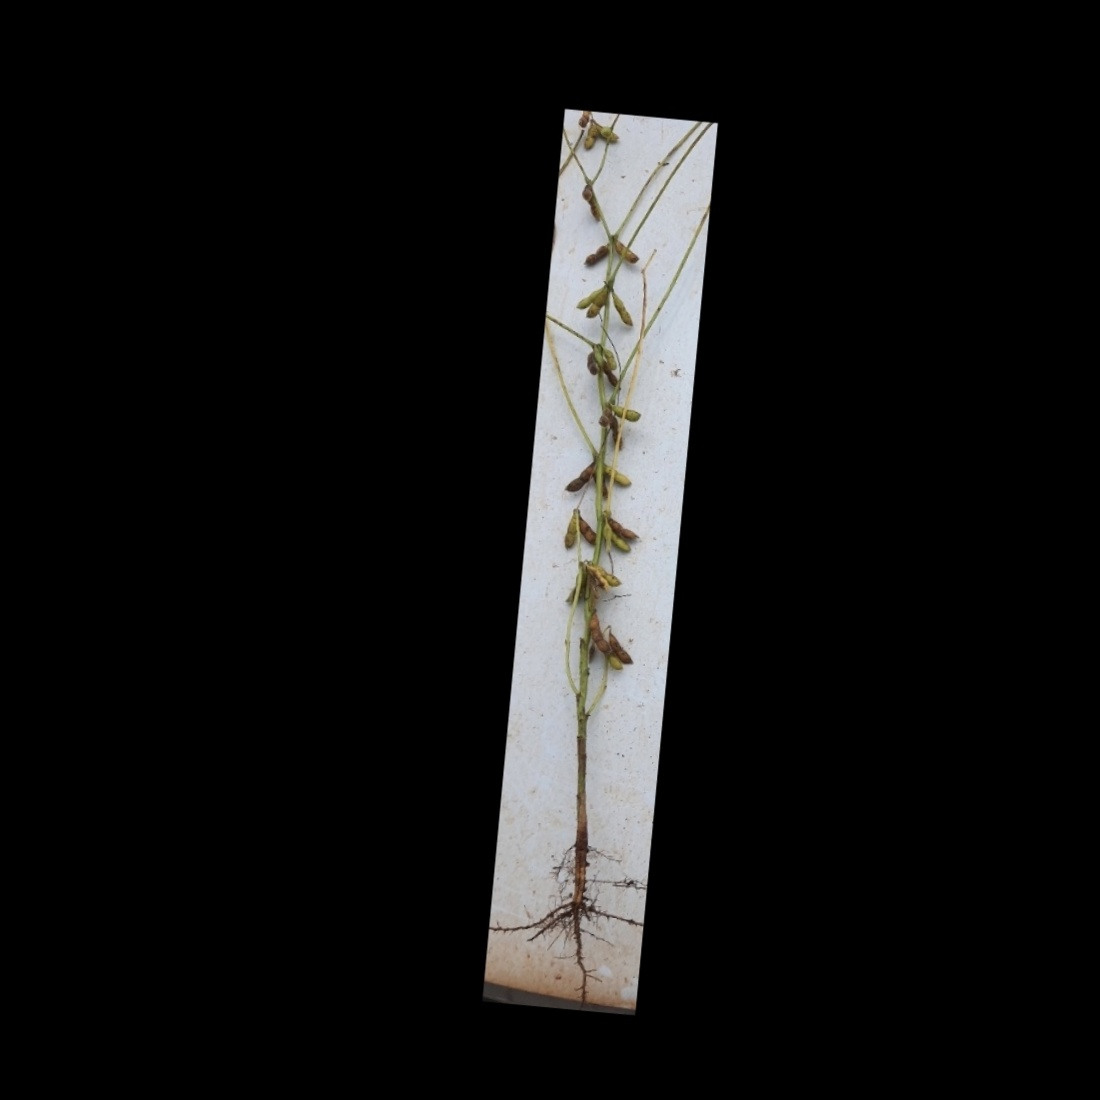pod: (585, 604, 611, 654), (562, 460, 595, 496), (608, 292, 638, 331), (609, 237, 645, 266), (581, 240, 612, 270), (601, 460, 634, 489), (572, 513, 599, 546), (611, 400, 645, 424), (560, 512, 578, 550), (580, 122, 599, 153)
soy: (492, 110, 704, 954)
